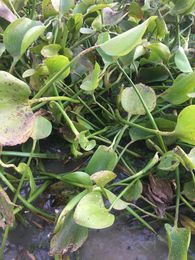water_hyacinth: (0, 9, 195, 251)
